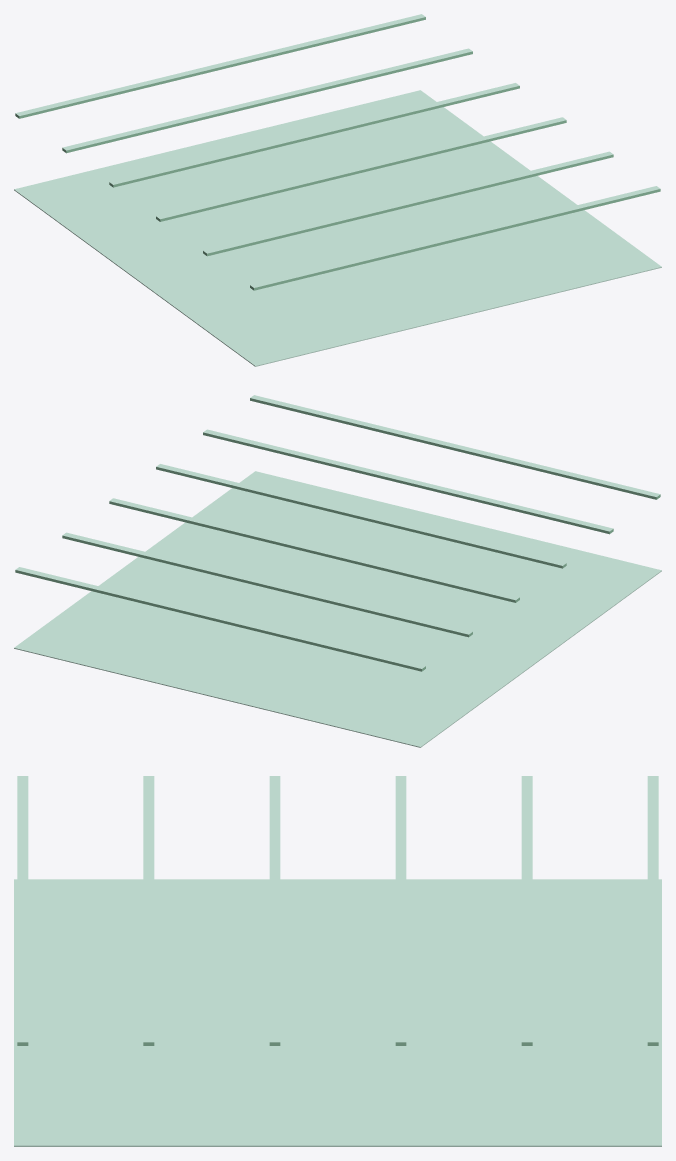
File: LabRoof.fbx
3 views of the same model, one above another, from view 1: azimuth 30°, elevation 25°; view 2: azimuth 150°, elevation 25°; view 3: azimuth 270°, elevation 25° (orthographic). The views are drawn at different scales.
Parts seen in each view (by area): view 1: Ceiling, Ceiling.001; view 2: Ceiling, Ceiling.001; view 3: Ceiling, Ceiling.001.
Boxes of the visible parts, x1,y1,x2,y2 form: Ceiling: (14,90,661,366); Ceiling.001: (15,14,660,290); Ceiling: (14,471,661,747); Ceiling.001: (15,395,660,671); Ceiling: (14,879,661,1146); Ceiling.001: (17,776,658,1045).
Bounding box in the file's own units: 1507 × 276 × 1550.
